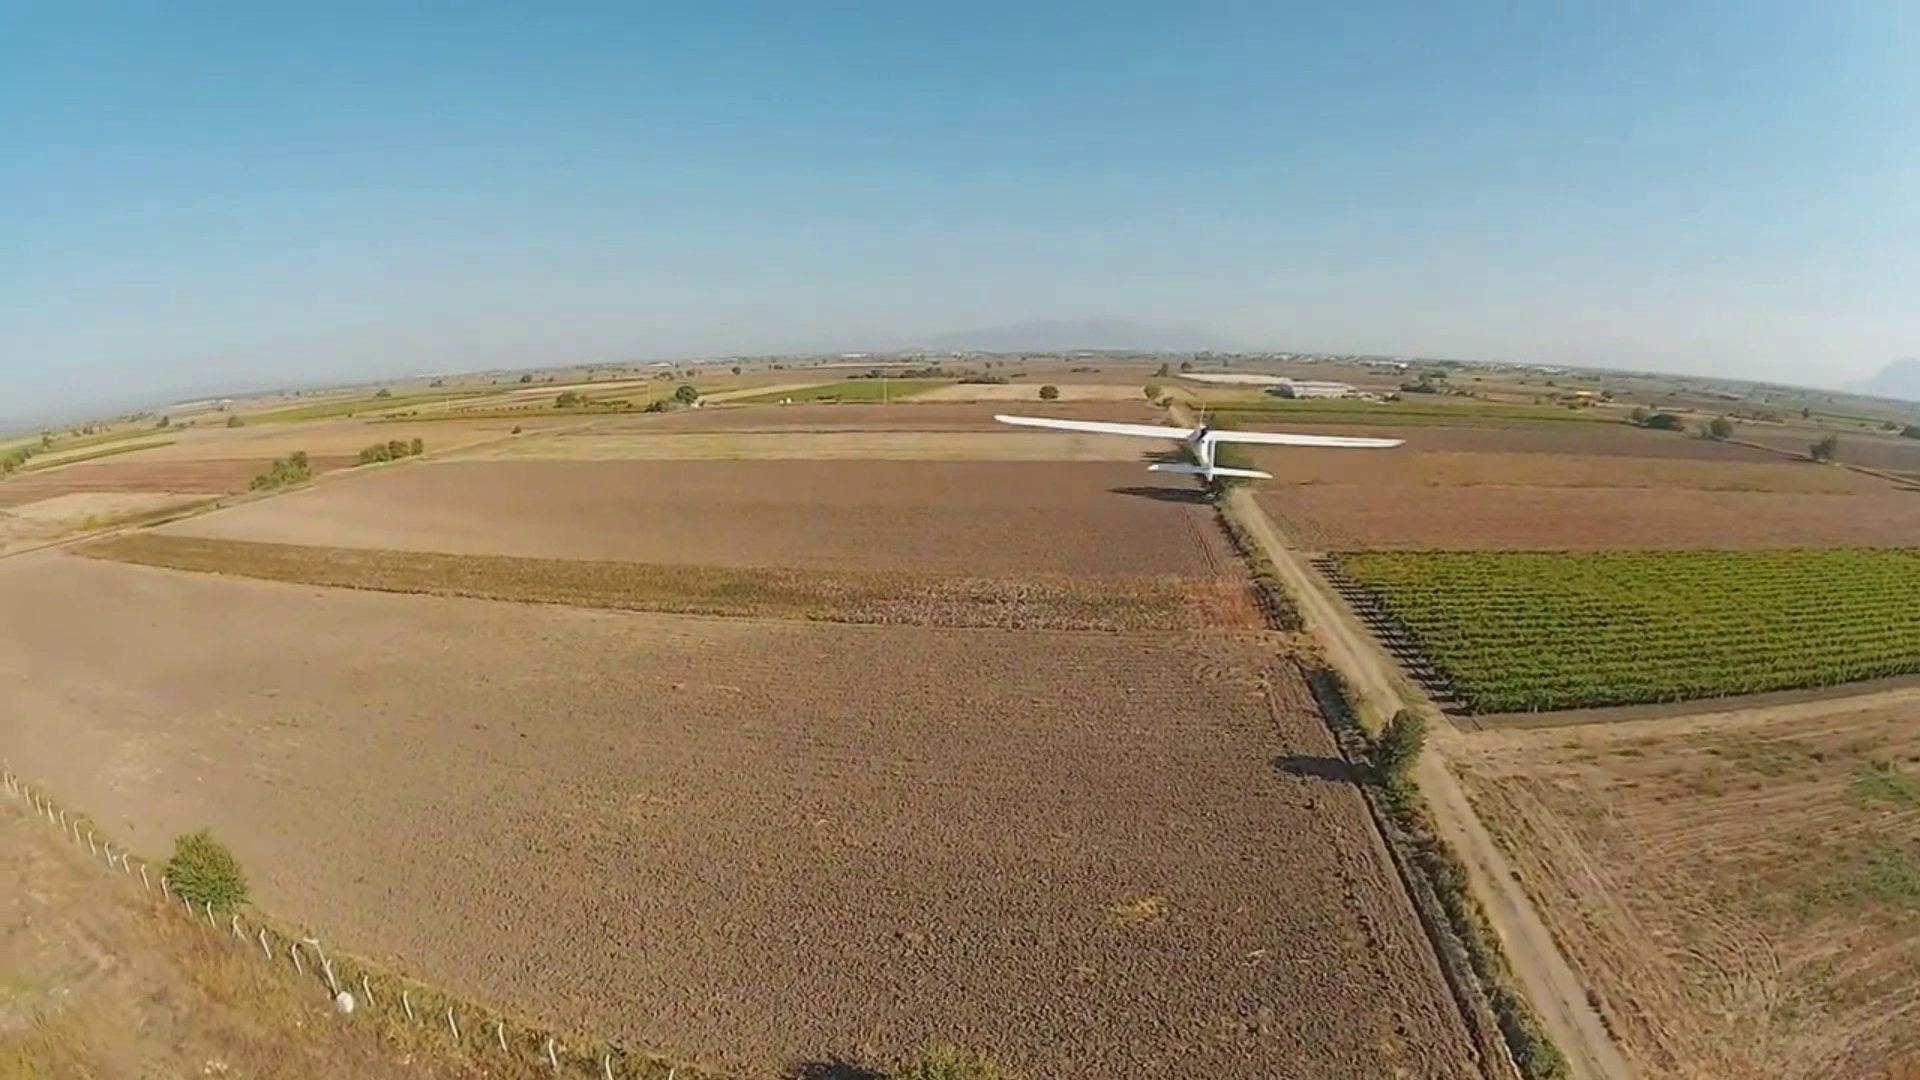airplane: (992, 382, 1406, 504)
